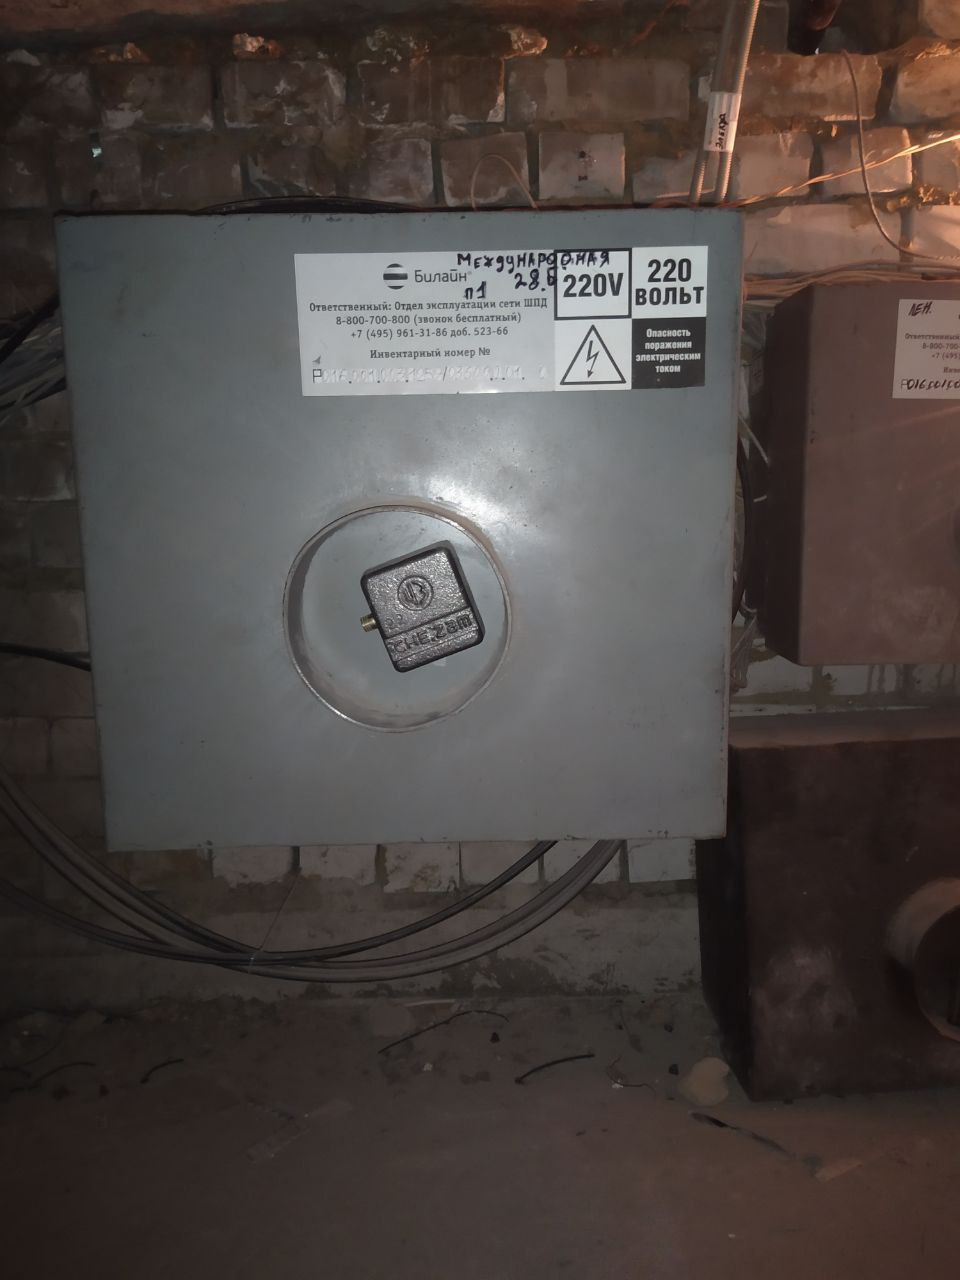shta-9: (43, 199, 757, 865)
